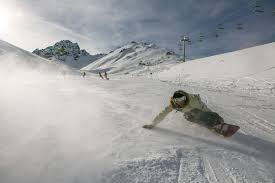snowboard: (206, 120, 242, 138)
